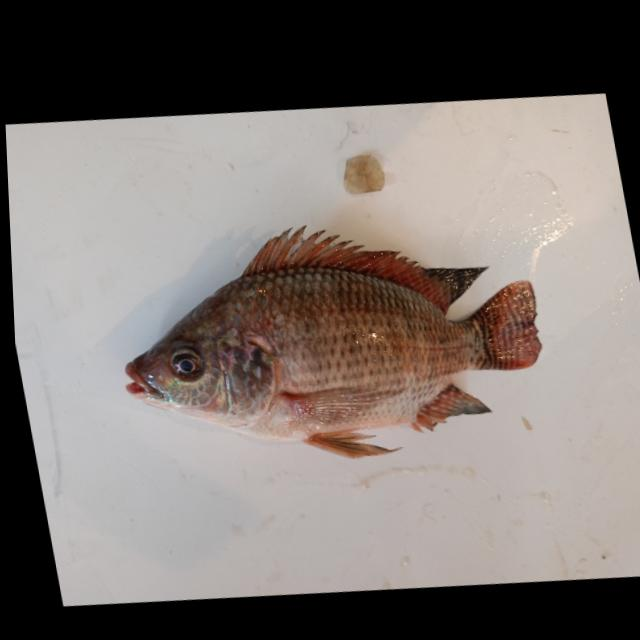Tilapia: (96, 175, 566, 506)
